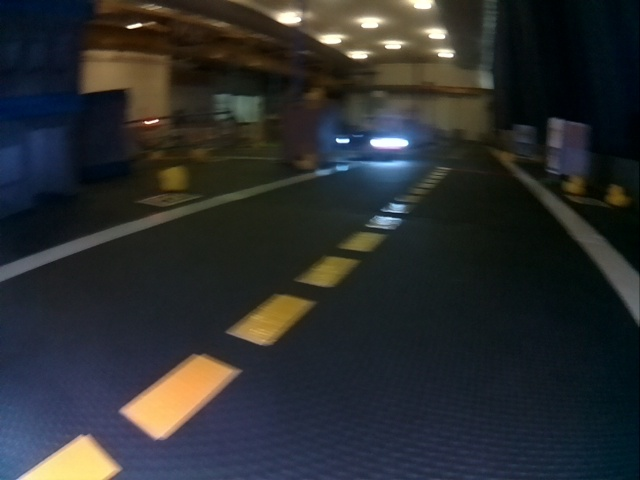Duckie: (159, 166, 182, 190), (607, 187, 627, 207), (563, 174, 584, 193), (296, 153, 314, 167)
QR code: (570, 196, 604, 206)
